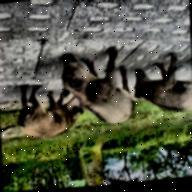boar: (53, 37, 146, 135), (131, 38, 192, 124), (10, 91, 88, 151)
